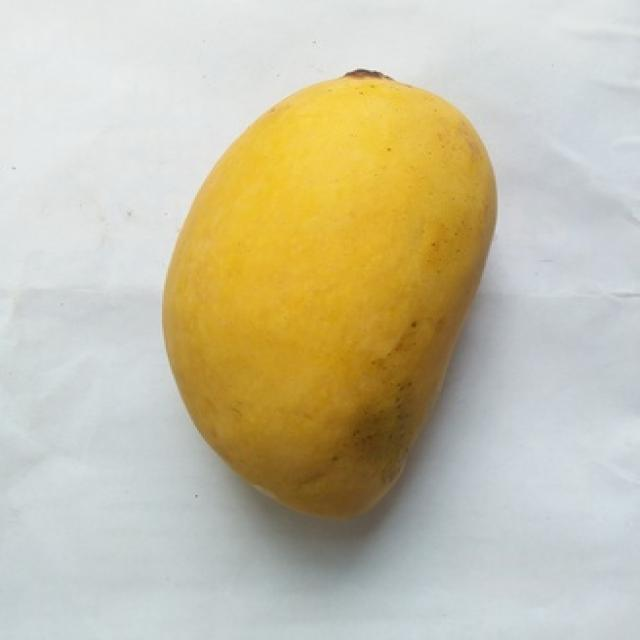Mango: (164, 72, 494, 516)
